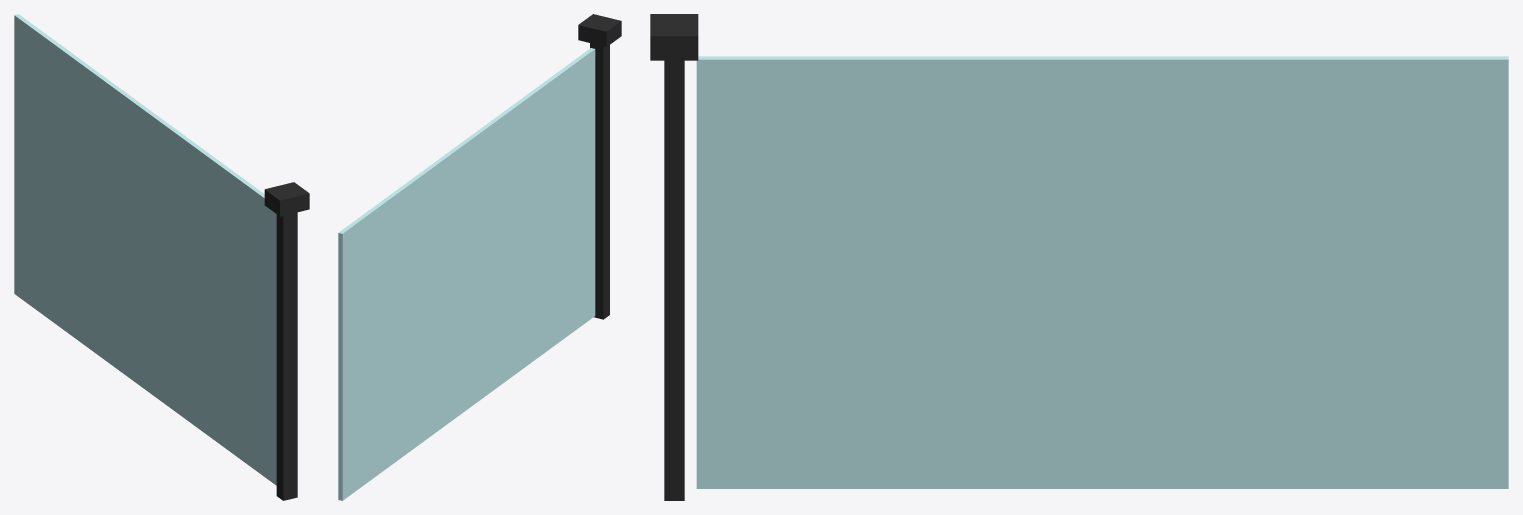
The model's file is Balcony.008.fbx.
The picture shows the model from 3 angles, left to right: view 1: azimuth 30°, elevation 25°; view 2: azimuth 150°, elevation 25°; view 3: azimuth 270°, elevation 25°; orthographic projection. The views are drawn at different scales.
Parts seen in each view (by area): view 1: Balcony.008; view 2: Balcony.008; view 3: Balcony.008.
Boxes of the visible parts, box(x1,y1,x2,y2) form: Balcony.008: box(14, 14, 309, 500); Balcony.008: box(338, 14, 621, 500); Balcony.008: box(650, 14, 1508, 500).
Size of the model in its own units: 44.44 by 437 by 723.
